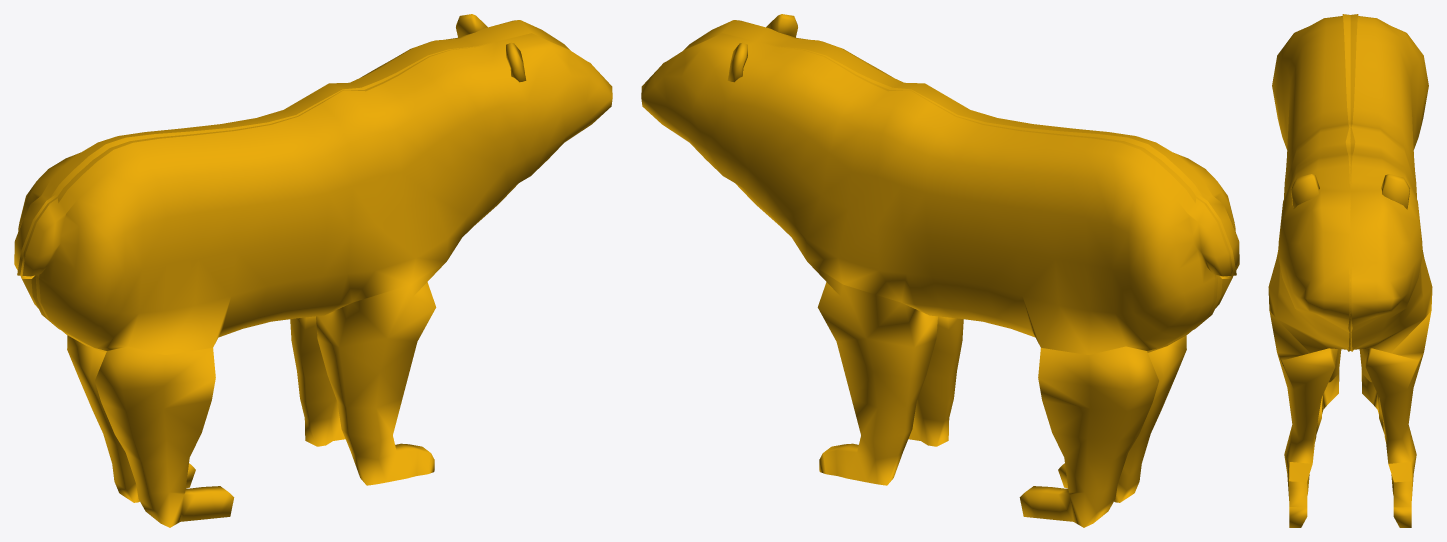
File: OSO.fbx
3 views of the same model, side by side, from view 1: azimuth 30°, elevation 25°; view 2: azimuth 150°, elevation 25°; view 3: azimuth 270°, elevation 25° (orthographic).
Parts seen in each view (by area): view 1: CUERPO; view 2: CUERPO; view 3: CUERPO.
Boxes of the visible parts, x1,y1,x2,y2 form: CUERPO: (14, 14, 612, 527); CUERPO: (641, 14, 1239, 527); CUERPO: (1268, 14, 1432, 527).
Size of the model in its own units: 379 by 250 by 93.17.
